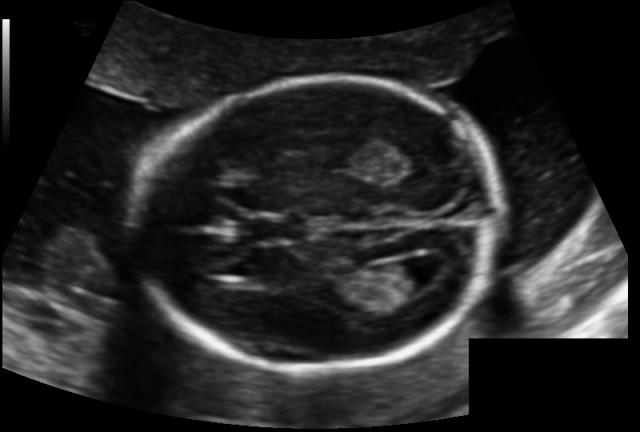CHOROID_PLEXUS: (308, 256, 426, 322)
CSP: (164, 188, 257, 264)
MIDLINE_FALX: (88, 162, 515, 268)
